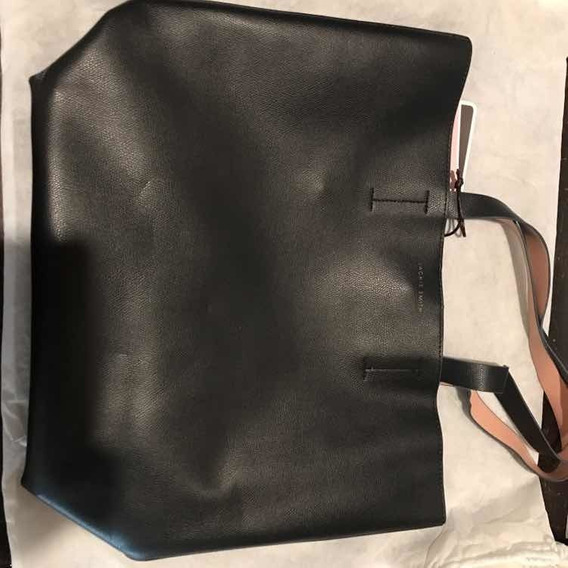cartera: (19, 1, 568, 563)
